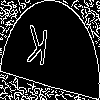K: (25, 24, 49, 76)
